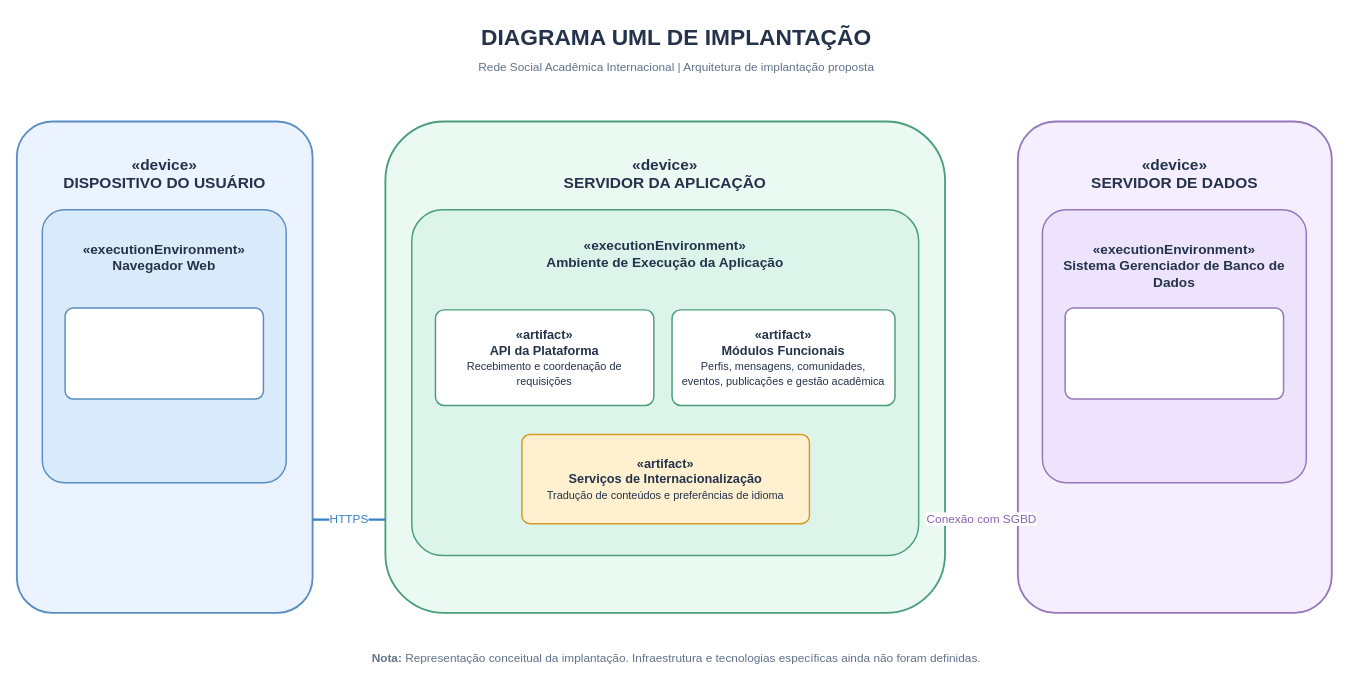
This 1348x686 diagram has some shape labels left out. Each missing label, with the centre of its shape:
«artifact» Estrutura do Banco de Dados Esquema, tabelas e relacionamentos: point (1174, 353)
«artifact» Interface Web Portal e recursos multilíngues: point (164, 353)
